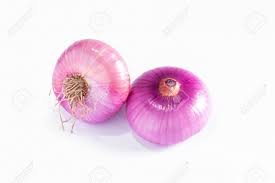onion: (51, 38, 131, 124), (127, 67, 211, 146)
